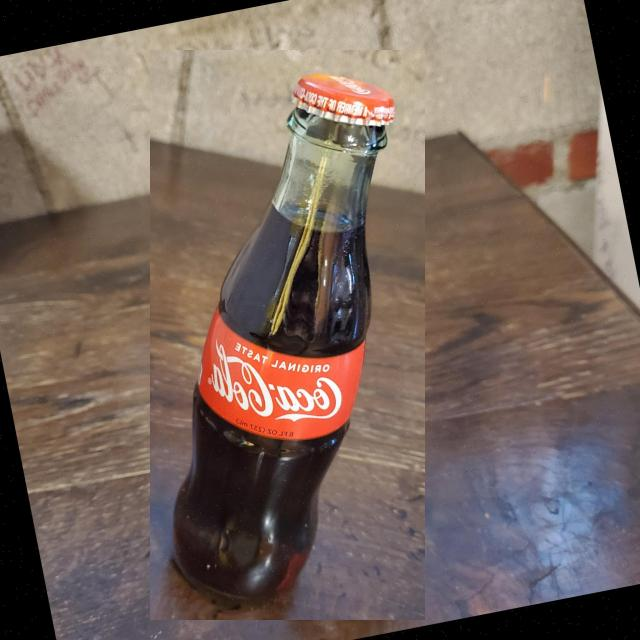coca-cola: (150, 50, 425, 620)
